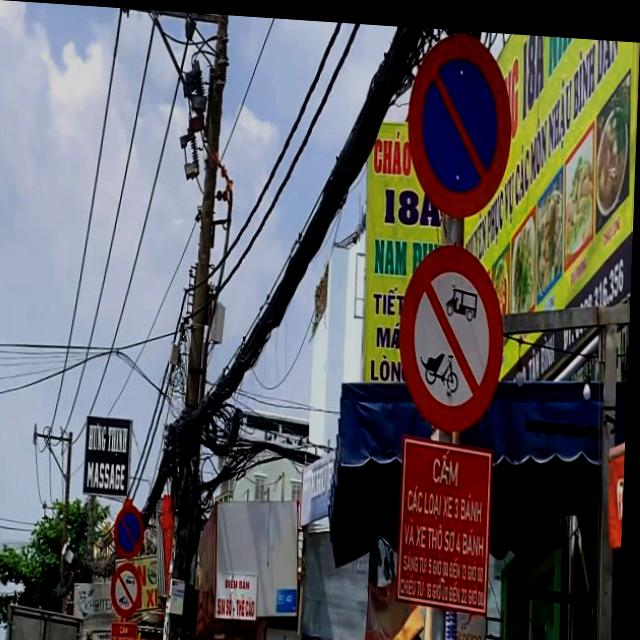Cam do xe: (411, 30, 510, 213), (115, 498, 149, 567)
